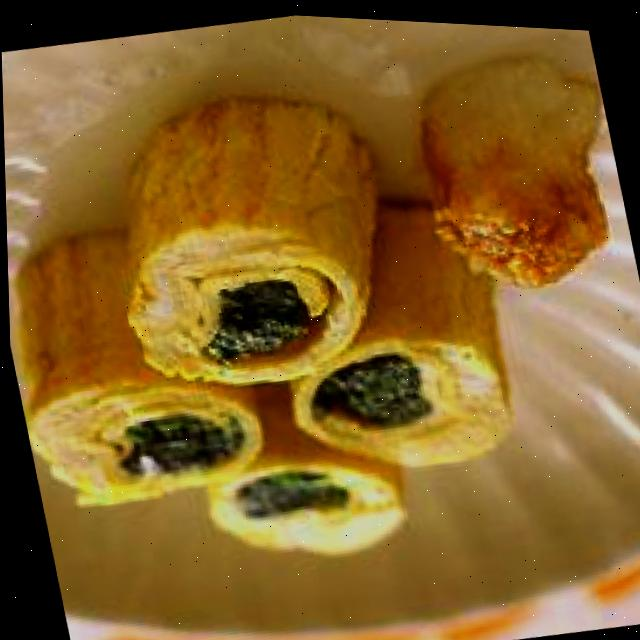鸡蛋料理: (1, 37, 554, 625)
